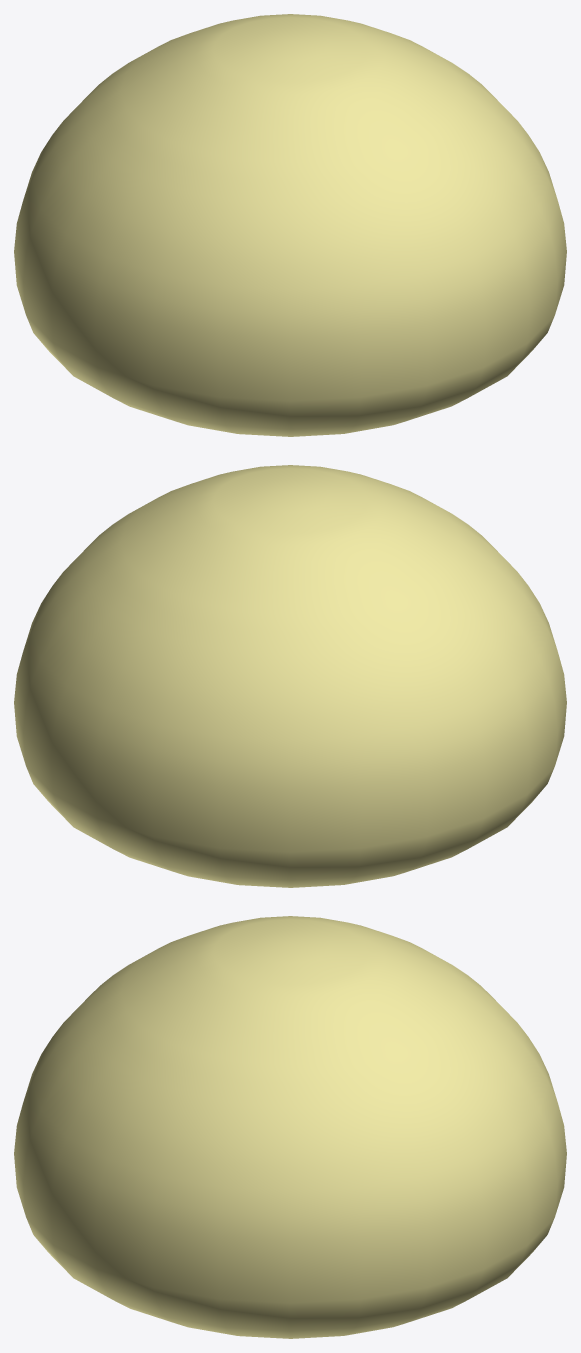
Rendered from SpartiumJunceum.glb.
The picture shows the model from 3 angles, top to bottom: view 1: azimuth 30°, elevation 25°; view 2: azimuth 150°, elevation 25°; view 3: azimuth 270°, elevation 25°; orthographic projection.
Parts seen in each view (by area): view 1: Spanish_Broom__Schematic_LOD3; view 2: Spanish_Broom__Schematic_LOD3; view 3: Spanish_Broom__Schematic_LOD3.
Boxes of the visible parts, left/top/right/bottom form: Spanish_Broom__Schematic_LOD3: left=14, top=14, right=566, bottom=436; Spanish_Broom__Schematic_LOD3: left=14, top=465, right=566, bottom=887; Spanish_Broom__Schematic_LOD3: left=14, top=916, right=566, bottom=1338.
Size of the model in its own units: 4.8 by 3.27 by 4.8.
